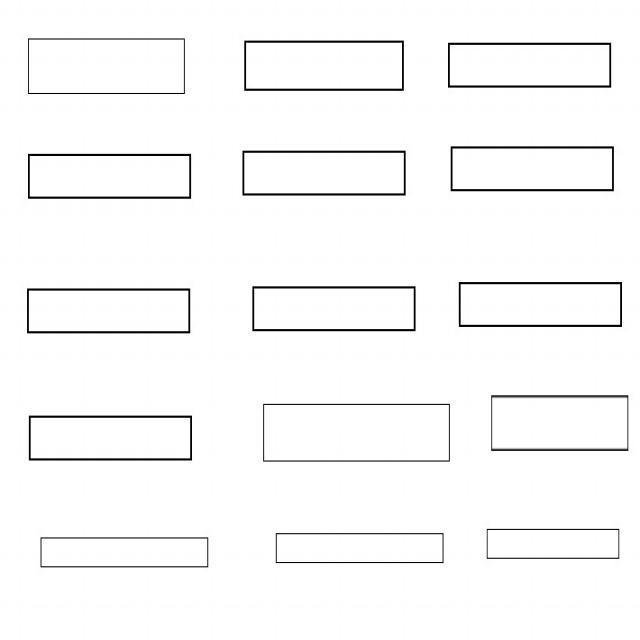textbox: (260, 398, 457, 468), (34, 528, 219, 587), (26, 32, 188, 99), (488, 392, 633, 462), (457, 278, 628, 337), (243, 38, 411, 98), (237, 147, 414, 202), (445, 42, 618, 97), (265, 526, 454, 576), (26, 413, 197, 468), (449, 144, 620, 197), (248, 283, 421, 335), (27, 154, 194, 207), (22, 288, 198, 338), (479, 518, 627, 570)
